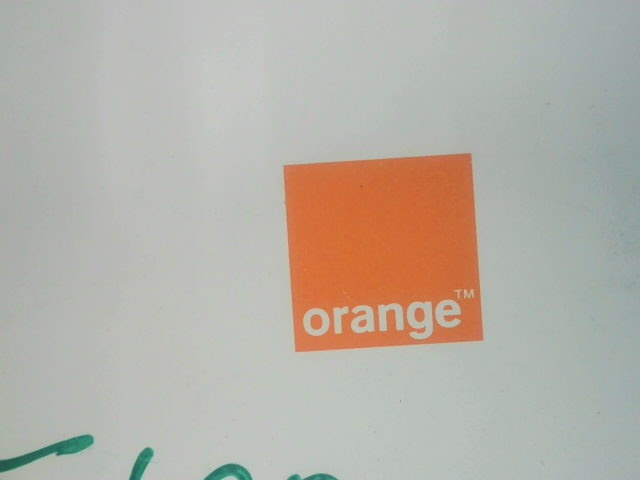AR_Orange: (266, 138, 490, 352)
